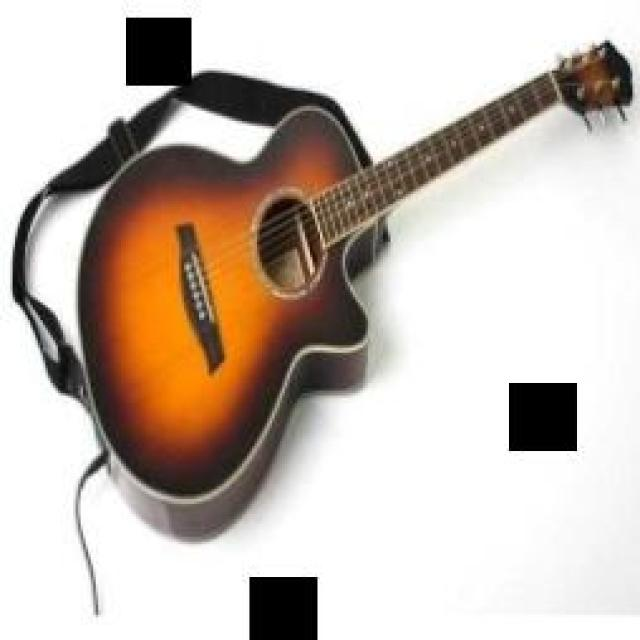acousticguitar: (81, 43, 630, 534)
